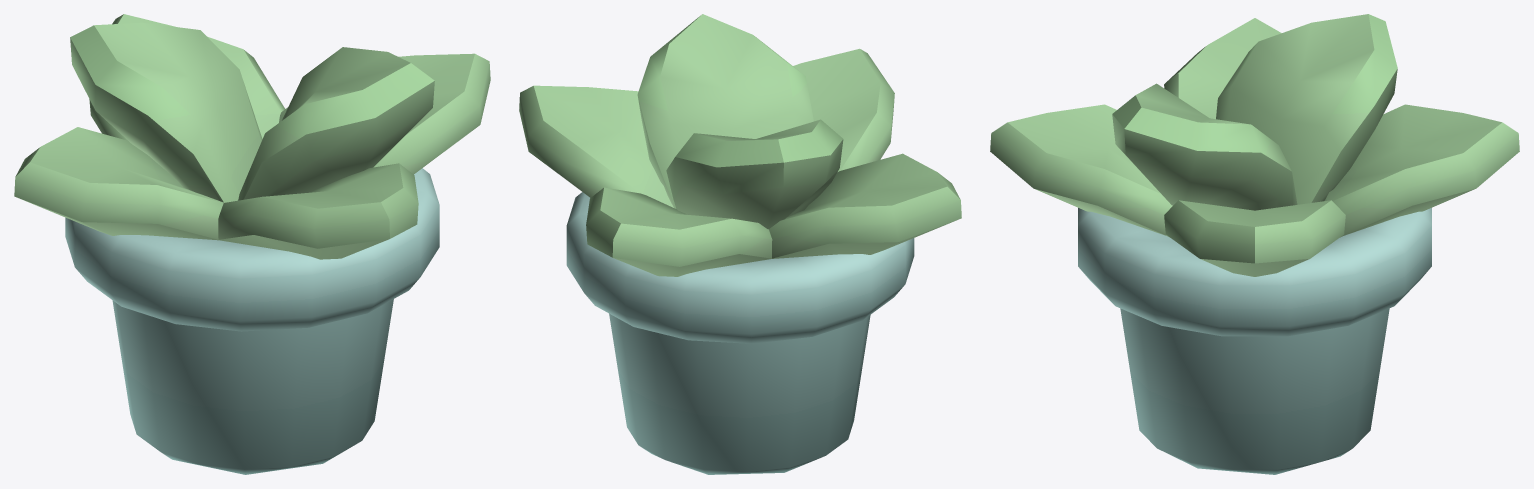
The model's file is bath-plant.glb.
The picture shows the model from 3 angles, left to right: view 1: azimuth 30°, elevation 25°; view 2: azimuth 150°, elevation 25°; view 3: azimuth 270°, elevation 25°; orthographic projection. The views are drawn at different scales.
Visible parts, largest first — view 1: plant; view 2: plant; view 3: plant.
Part boxes in pixels (x1,y1,x2,y2): plant: [14, 14, 490, 474]; plant: [519, 14, 961, 474]; plant: [990, 14, 1519, 474].
Bounding box in the file's own units: 0.8225 × 0.6365 × 0.8225.
Materials: 1 (1 with a texture image).
